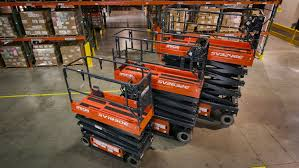Scissor Lift: (154, 6, 266, 126), (111, 28, 209, 145), (62, 54, 155, 168)
